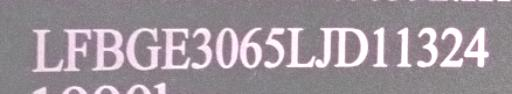letter: (124, 26, 162, 70), (90, 25, 126, 71), (62, 25, 94, 75), (30, 26, 64, 71), (334, 26, 370, 68), (284, 24, 316, 68), (160, 27, 192, 69), (212, 26, 240, 70), (462, 25, 490, 67), (414, 25, 440, 70), (238, 24, 264, 68), (438, 24, 464, 68), (190, 25, 214, 70), (262, 24, 286, 68), (314, 24, 334, 68), (370, 25, 388, 70), (394, 25, 412, 69)
